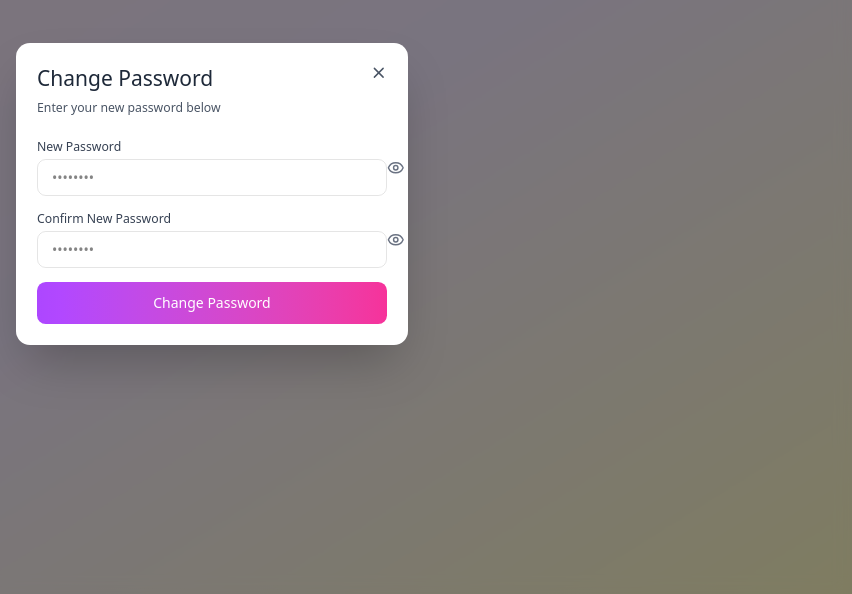
Scenario: PasswordChangeModal › should show error when passwords do not match
Expected: the heading "Change Password" is shown, top-left (37, 64), bottom-right (213, 92)
Fill in mismatched passwords
Type "newpassword123" into the password field labelled "New Password".
click(212, 177); type("newpassword123")  # box top-left (37, 159), bottom-right (387, 196)
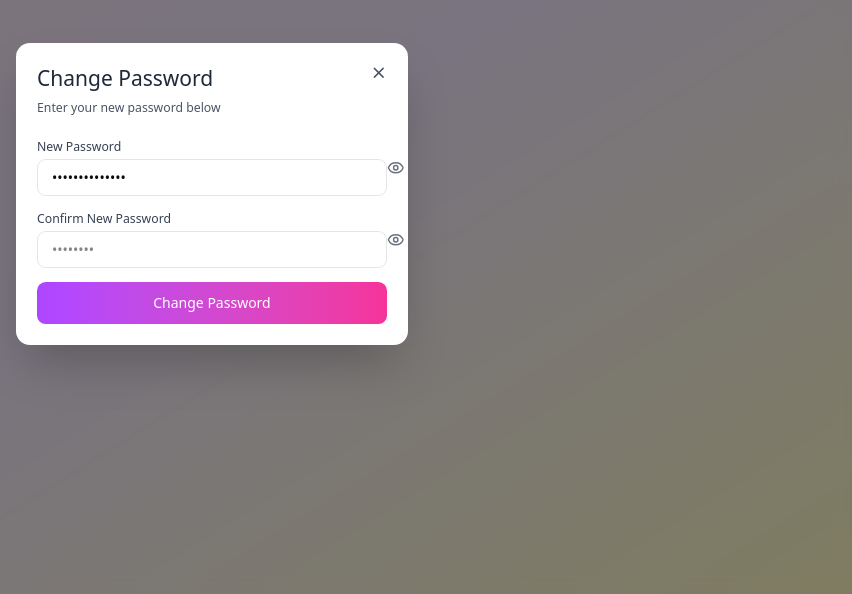
Type "differentpassword" into the password field labelled "Confirm New Password".
click(212, 249); type("differentpassword")  # box top-left (37, 231), bottom-right (387, 268)
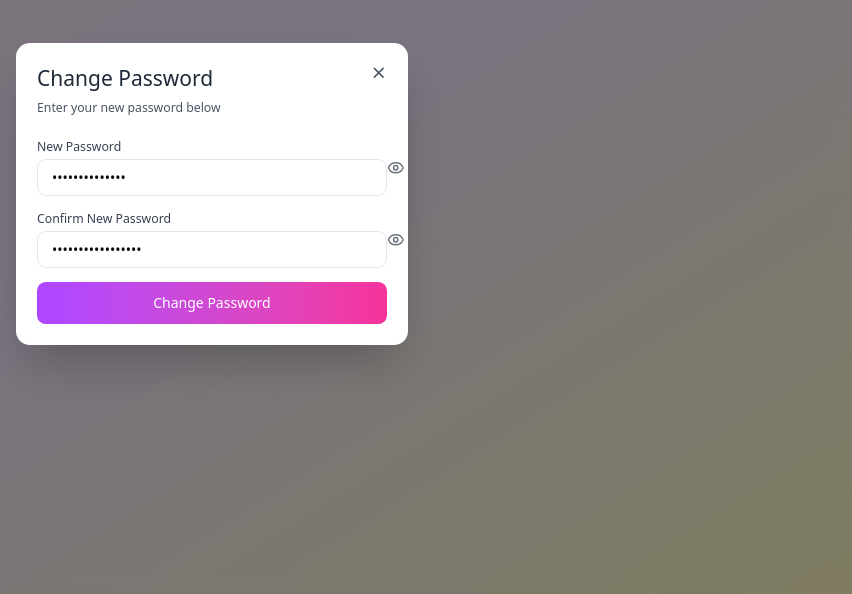
Click the button "Change Password".
click(212, 303)  # box top-left (37, 282), bottom-right (387, 324)
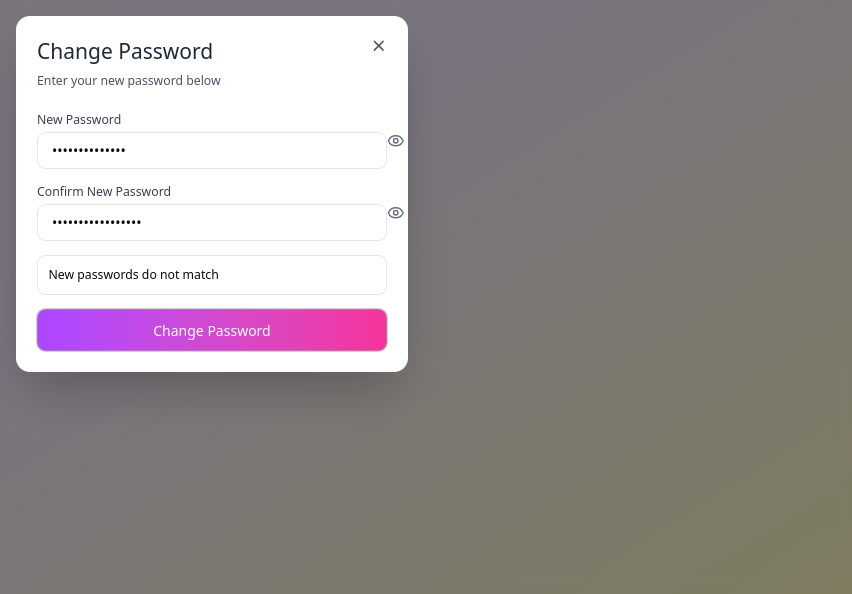
Now the text "New passwords do not match" is shown, box top-left (37, 254), bottom-right (387, 295)
